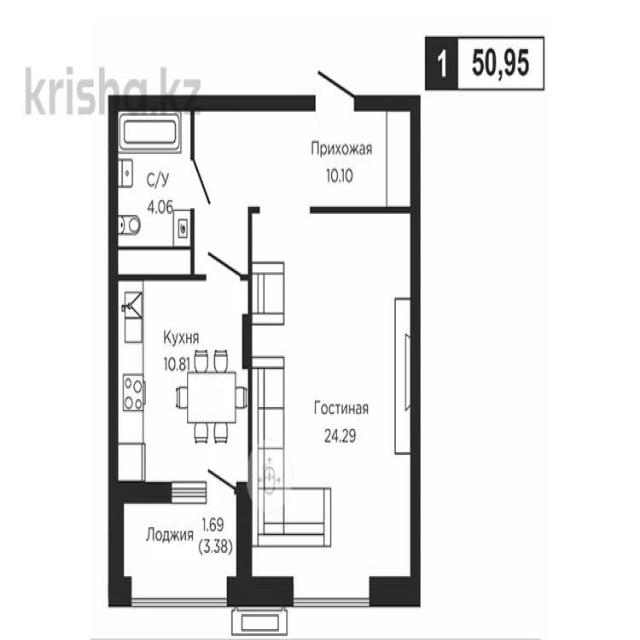bathroom: (117, 113, 195, 255)
kitchen: (117, 279, 248, 492)
living_room: (251, 212, 413, 600)
other: (194, 97, 414, 210), (117, 495, 244, 603)
